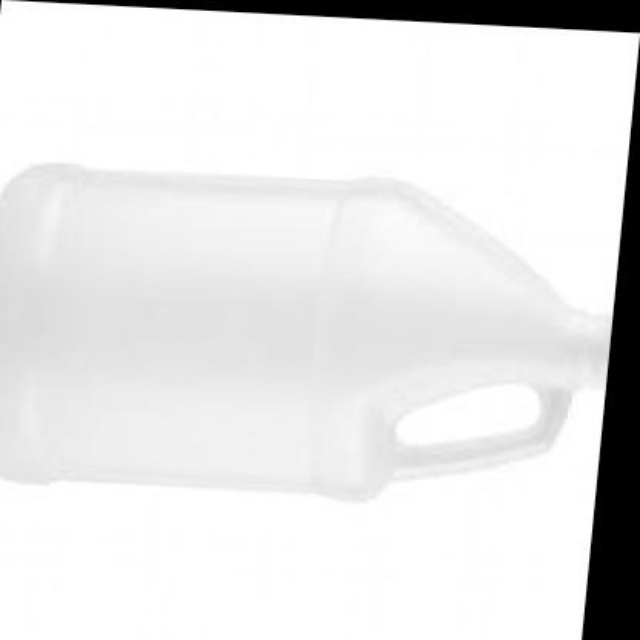trash: (0, 165, 605, 497)
